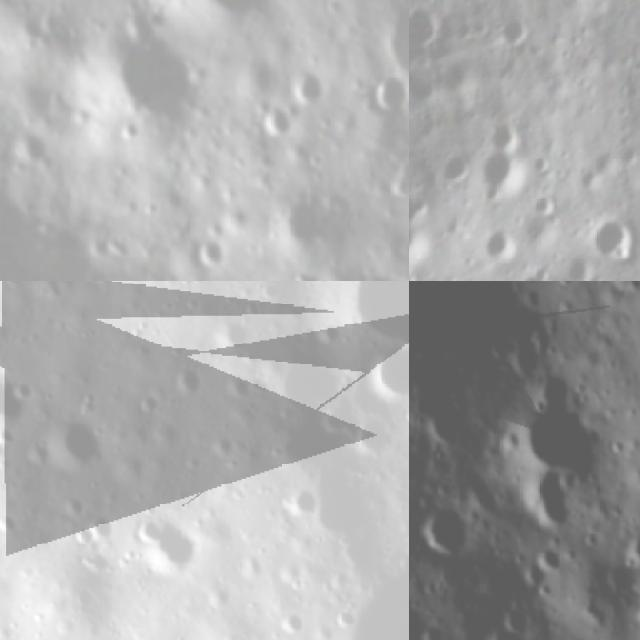crater: (104, 21, 198, 139), (512, 398, 613, 478), (124, 508, 211, 588), (41, 410, 118, 482), (506, 468, 584, 531), (266, 182, 332, 254), (350, 281, 409, 354), (415, 502, 475, 560), (361, 336, 409, 402), (0, 363, 37, 440), (587, 210, 638, 264), (348, 417, 407, 461), (368, 61, 409, 118), (409, 0, 447, 57), (379, 0, 409, 72), (276, 484, 325, 526), (434, 54, 479, 98), (164, 356, 208, 400), (290, 58, 330, 106), (533, 371, 577, 411), (482, 148, 523, 188), (434, 149, 476, 188), (482, 217, 519, 261), (193, 233, 236, 270), (78, 550, 122, 585), (270, 605, 313, 640), (496, 13, 532, 52), (256, 99, 291, 139), (532, 543, 568, 579), (326, 599, 363, 633), (563, 246, 598, 281), (486, 112, 520, 148), (502, 604, 536, 638), (527, 190, 563, 222), (516, 554, 548, 590), (517, 260, 564, 281), (70, 521, 101, 549), (418, 619, 452, 640), (62, 492, 88, 518), (622, 528, 640, 565), (0, 511, 19, 540), (564, 631, 601, 640)
